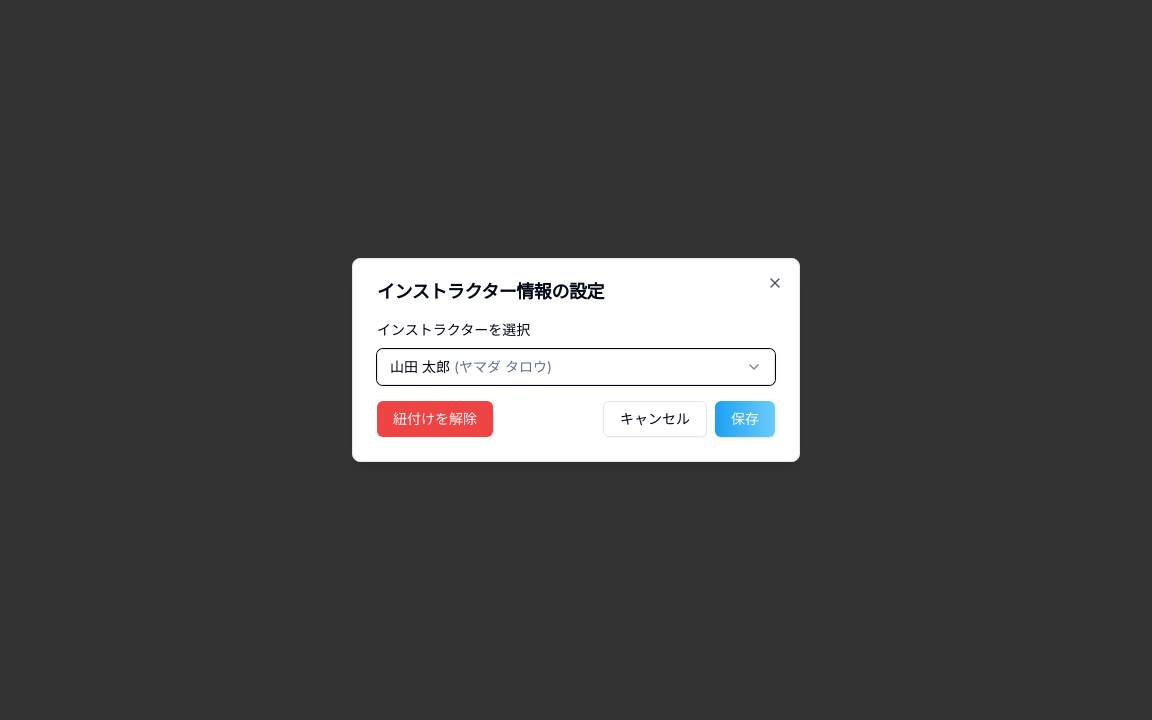
Test: InstructorSelectModal › Link Action - Error › エラー時、エラーメッセージが表示される
Click the button "保存" at [745, 419], box [715,401,775,437]
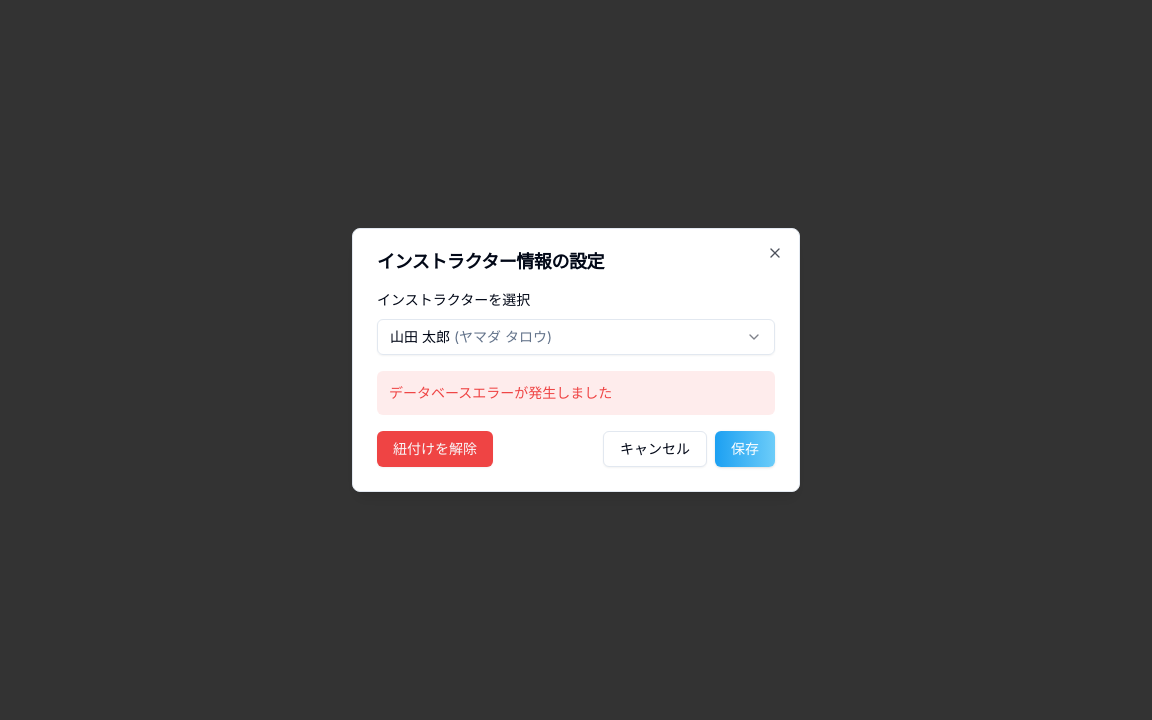
Now the text "データベースエラーが発生しました" is shown, box [377,371,775,415]
